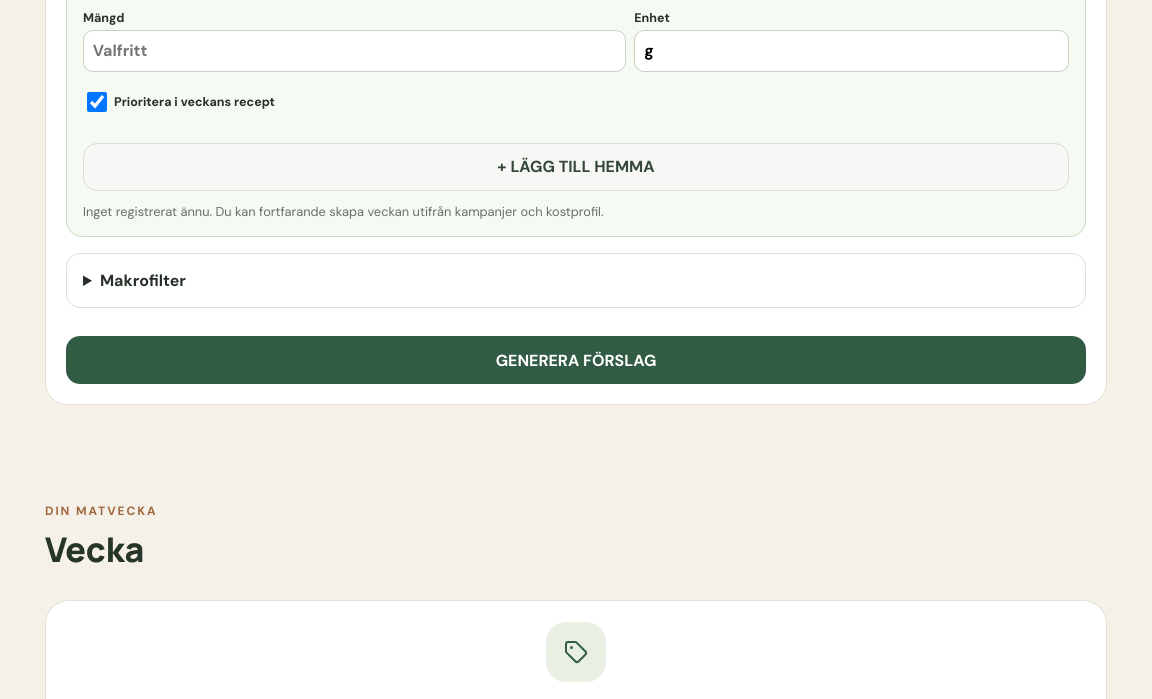
Test: weekly campaign and planner UI › shows one compact campaign row and no duplicate protein reason
(page scrolled)
Click the button "GENERERA FÖRSLAG" at (576, 360), box [66,336,1086,384]
(page scrolled)
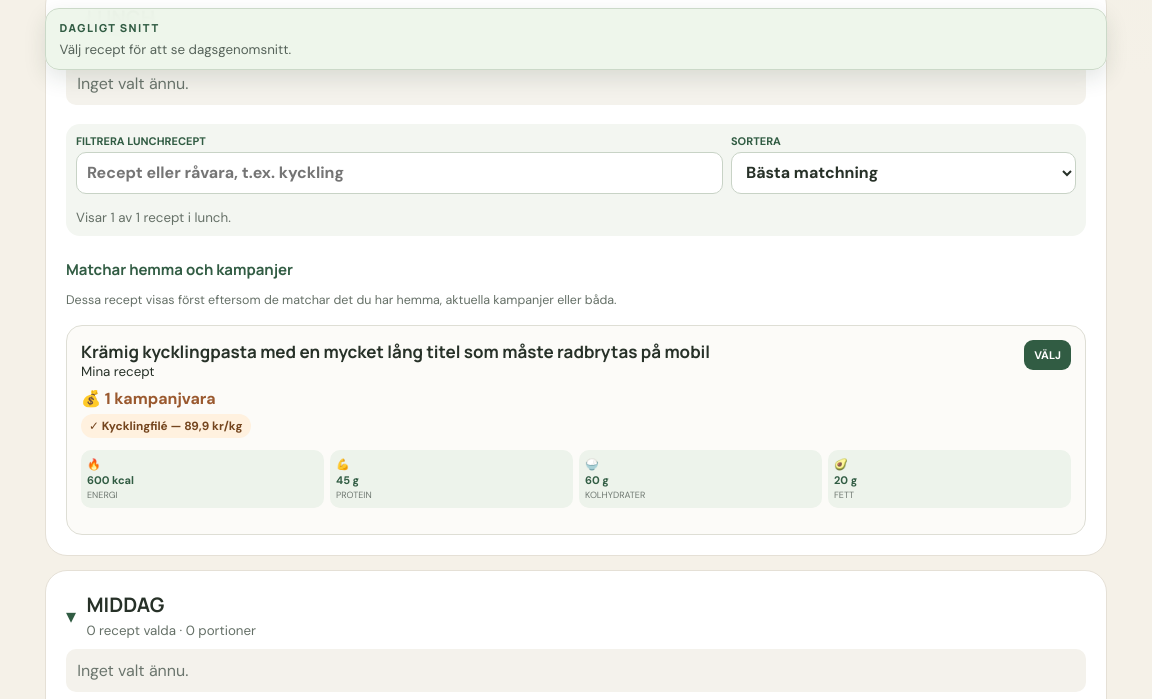
Expected: the text "✓ Kycklingfilé — 89,9 kr/kg" is shown, [81,414,251,438]
Expected: the element named "VÄLJ" is shown, [81,340,1071,380]
